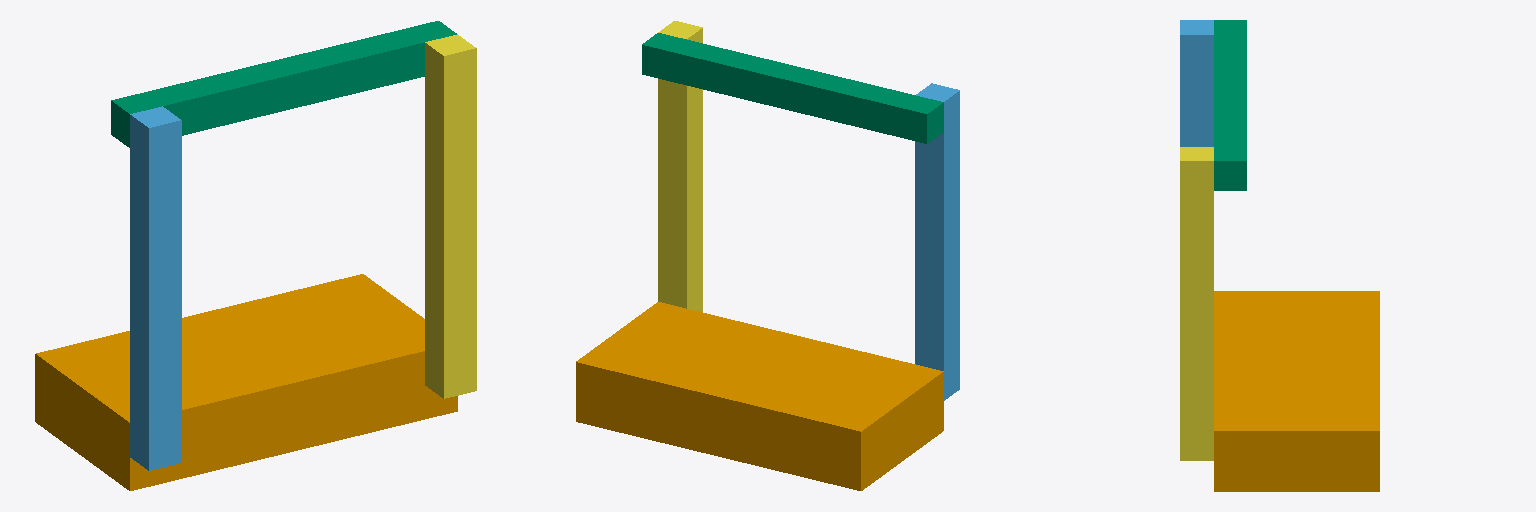
URDF robot description (sample1):
<?xml version="1.0"?>
<robot name="sample1">
  <gazebo>
    <plugin name="gazebo_ros_control" filename="libgazebo_ros_control.so">
      <robotNamespace>/sample1</robotNamespace>
    </plugin>
    <static>false</static>
  </gazebo>
  <link name="base_link">
    <visual name="visual">
      <origin xyz="0 0 0.01" rpy="0 0 0"/>
      <geometry>
	<box size="0.1 0.05 0.02"/>
      </geometry>
    </visual>
    <collision name="collision">
      <origin xyz="0 0 0.01" rpy="0 0 0"/>
      <geometry>
	<box size="0.1 0.05 0.02"/>
      </geometry>
    </collision>
    <inertial>
      <origin xyz="0 0 0.01" rpy="0 0 0"/>
      <mass value="0.1"/>
      <inertia ixx="0.000025" iyy="0.00009" izz="0.000105" ixy="0" iyz="0" ixz="0"/>
    </inertial>
  </link>
  <gazebo reference="base_link">
      <selfCollide>true</selfCollide>
  </gazebo>

  
  <joint name="ld_hinge" type="revolute">
    <origin xyz="-0.045 -0.025 0.015" rpy="0 0 0"/>
    <parent link="base_link"/>
    <child link="left"/>
    <axis xyz="0 1 0"/>
    <limit effort="0.4" velocity="1.5707" lower="-1.5707" upper="1.5707" />
  </joint>

  <link name="left">
    <visual name="visual">
      <origin xyz="0 -0.005 0.045" rpy="0 0 0"/>
      <geometry>
	<box size="0.01 0.01 0.1"/>
      </geometry>
    </visual>
    <collision name="collision">
      <origin xyz="0 -0.005 0.045" rpy="0 0 0"/>
      <geometry>
	<box size="0.01 0.01 0.1"/>
      </geometry>
    </collision>
    <inertial>
      <origin xyz="0 -0.005 0.045" rpy="0 0 0"/>
      <mass value="0.01"/>
      <inertia ixx="0.0000085" iyy="0.0000085" izz="0.0000002"  ixy="0" iyz="0" ixz="0"/>
    </inertial>
  </link>
  <gazebo reference="left">
      <selfCollide>true</selfCollide>
  </gazebo>

  <joint name="lu_hinge" type="revolute">
    <origin xyz="0 0 0.09" rpy="0 0 0"/>
    <parent link="left"/>
    <child link="top"/>
    <axis xyz="0 1 0"/>
    <limit effort="0" velocity="1.5707" lower="-1.5707" upper="1.5707" />
    
  </joint>

  <link name="top">
    <visual name="visual">
      <origin xyz="0.045 0.005 0" rpy="0 0 0"/>
      <geometry>
	<box size="0.1 0.01 0.01"/>
      </geometry>
    </visual>
    <collision name="collision">
      <origin xyz="0.045 0.005 0" rpy="0 0 0"/>
      <geometry>
	<box size="0.1 0.01 0.01"/>
      </geometry>
    </collision>
    <inertial>
      <origin xyz="0.045 0.005 0" rpy="0 0 0"/>
      <mass value="0.01"/>
      <inertia ixx="0.0000002" iyy="0.0000085" izz="0.0000085" ixy="0" iyz="0" ixz="0"/>
    </inertial>
  </link>
  <gazebo reference="top">
      <selfCollide>true</selfCollide>
  </gazebo>

  <joint name="rd_hinge" type="revolute">
    <origin xyz="0.045 -0.025 0.015" rpy="0 0 0"/>
    <parent link="base_link"/>
    <child link="right"/>
    <axis xyz="0 1 0"/>
    <limit effort="0.0" velocity="1.5707" lower="-1.5707" upper="1.5707" />
  </joint>

  <link name="right">
    <visual name="visual">
      <origin xyz="0 -0.005 0.045" rpy="0 0 0"/>
      <geometry>
	<box size="0.01 0.01 0.1"/>
      </geometry>
    </visual>
    <collision name="collision">
      <origin xyz="0 -0.005 0.045" rpy="0 0 0"/>
      <geometry>
	<box size="0.01 0.01 0.1"/>
      </geometry>
    </collision>
    <inertial>
      <origin xyz="0 -0.005 0.045" rpy="0 0 0"/>
      <mass value="0.01"/>
      <inertia ixx="0.0000085" iyy="0.0000085" izz="0.0000002"  ixy="0" iyz="0" ixz="0"/>
    </inertial>
  </link>
  <gazebo reference="left">
      <selfCollide>true</selfCollide>
  </gazebo>
  
  <transmission name="tran_ld">
      <type>transmission_interface/SimpleTransmission</type>
      <joint name="ld_hinge">
    	<hardwareInterface>hardware_interface/PositionJointInterface</hardwareInterface>
      </joint>
      <actuator name="motor_ld">
    	<hardwareInterface>hardware_interface/PositionJointInterface</hardwareInterface>
    	<mechanicalReduction>1</mechanicalReduction>
      </actuator>
  </transmission>

  <transmission name="tran_lu">
      <type>transmission_interface/SimpleTransmission</type>
      <joint name="lu_hinge">
    	<hardwareInterface>hardware_interface/PositionJointInterface</hardwareInterface>
      </joint>
      <actuator name="motor_lu">
    	<hardwareInterface>hardware_interface/PositionJointInterface</hardwareInterface>
    	<mechanicalReduction>1</mechanicalReduction>
      </actuator>
  </transmission>

  <transmission name="tran_rd">
      <type>transmission_interface/SimpleTransmission</type>
      <joint name="rd_hinge">
    	<hardwareInterface>hardware_interface/PositionJointInterface</hardwareInterface>
      </joint>
      <actuator name="motor_rd">
    	<hardwareInterface>hardware_interface/PositionJointInterface</hardwareInterface>
    	<mechanicalReduction>1</mechanicalReduction>
      </actuator>
  </transmission>
  
  
</robot>

--- Facts derived from the render (not from the file) ---
Views: 3 orthographic renders of the robot side by side, from view 1: azimuth 30°, elevation 25°; view 2: azimuth 150°, elevation 25°; view 3: azimuth 270°, elevation 25°.
Robot: sample1 — 4 links, 3 joints (3 revolute); root link base_link; default pose: all joints at 0.
Visible links, largest first — view 1: base_link, left, right, top; view 2: base_link, top, left, right; view 3: base_link, right, top, left.
Boxes of the visible links, x1=… form: base_link: x1=35, y1=274, x2=457, y2=490; left: x1=130, y1=106, x2=181, y2=470; right: x1=425, y1=34, x2=476, y2=398; top: x1=111, y1=21, x2=456, y2=147; base_link: x1=576, y1=302, x2=943, y2=490; top: x1=642, y1=33, x2=943, y2=143; left: x1=915, y1=83, x2=959, y2=400; right: x1=658, y1=21, x2=702, y2=311; base_link: x1=1214, y1=291, x2=1379, y2=491; right: x1=1180, y1=147, x2=1213, y2=460; top: x1=1214, y1=20, x2=1246, y2=190; left: x1=1180, y1=20, x2=1213, y2=146.
Bounding box of the posed robot: 0.1 × 0.06 × 0.11 m (x, y, z).
Geometry: primitives only (box / cylinder / sphere), no mesh files.
